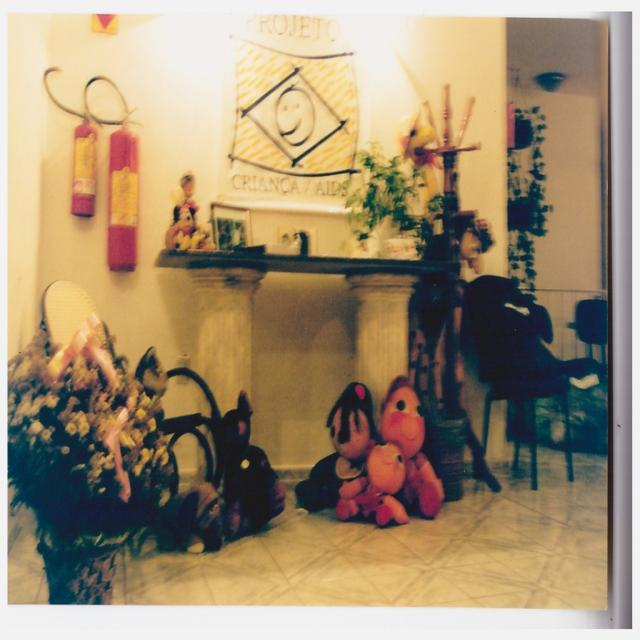Toy: (326, 377, 383, 518), (390, 372, 440, 520), (366, 434, 406, 530), (160, 198, 207, 256)
